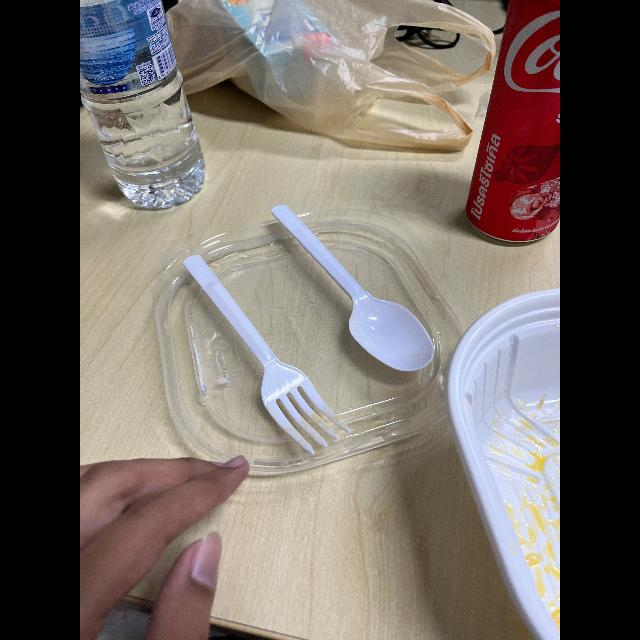plastic_cultery: (172, 248, 364, 456), (258, 199, 444, 381)
